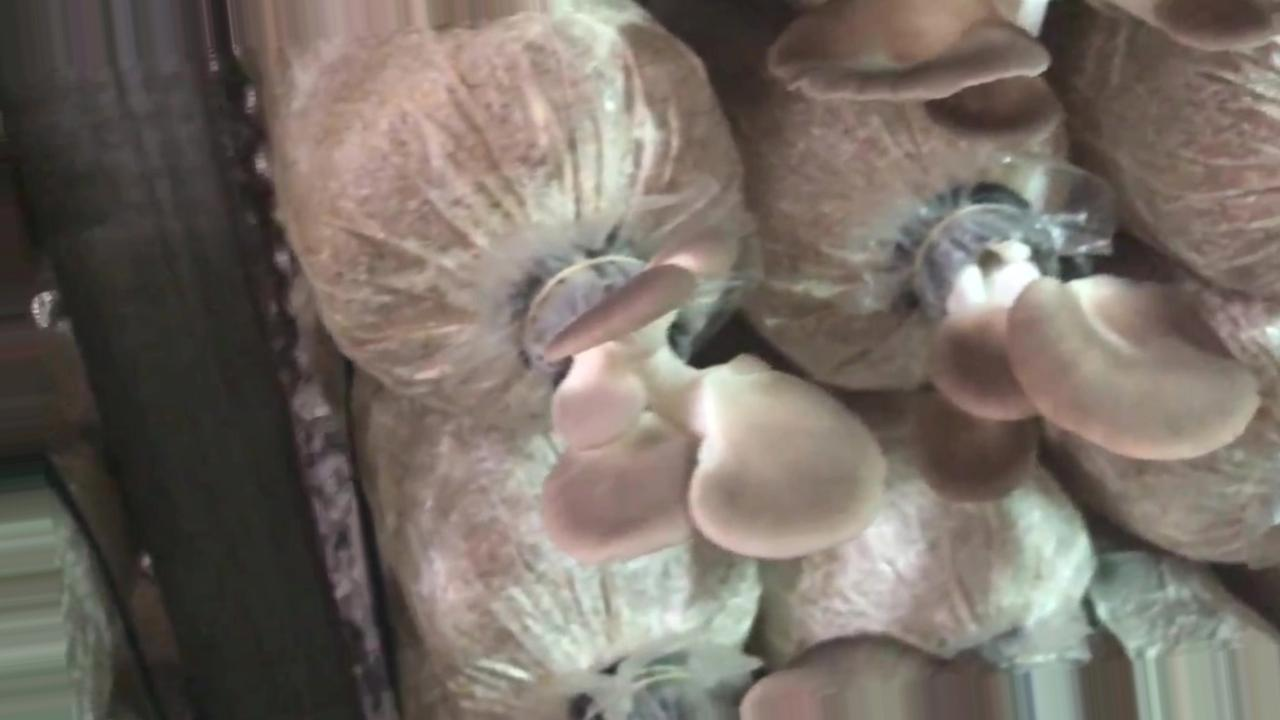nam: (917, 199, 1261, 506), (539, 271, 889, 564), (768, 6, 1048, 125)
